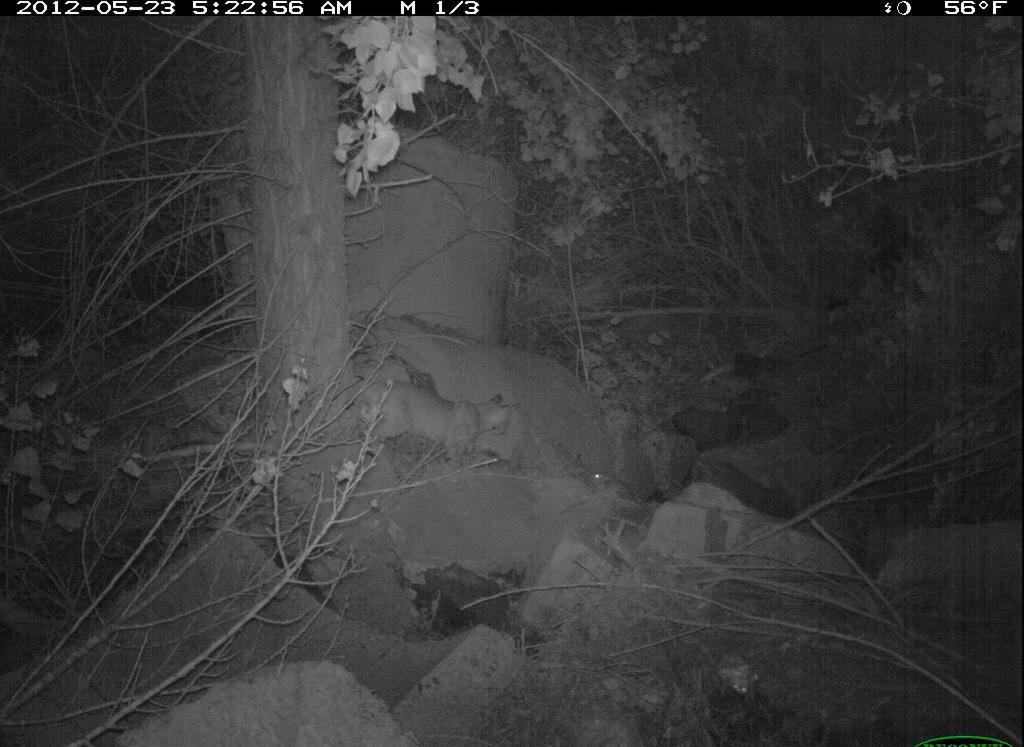rodent: (586, 464, 641, 507)
